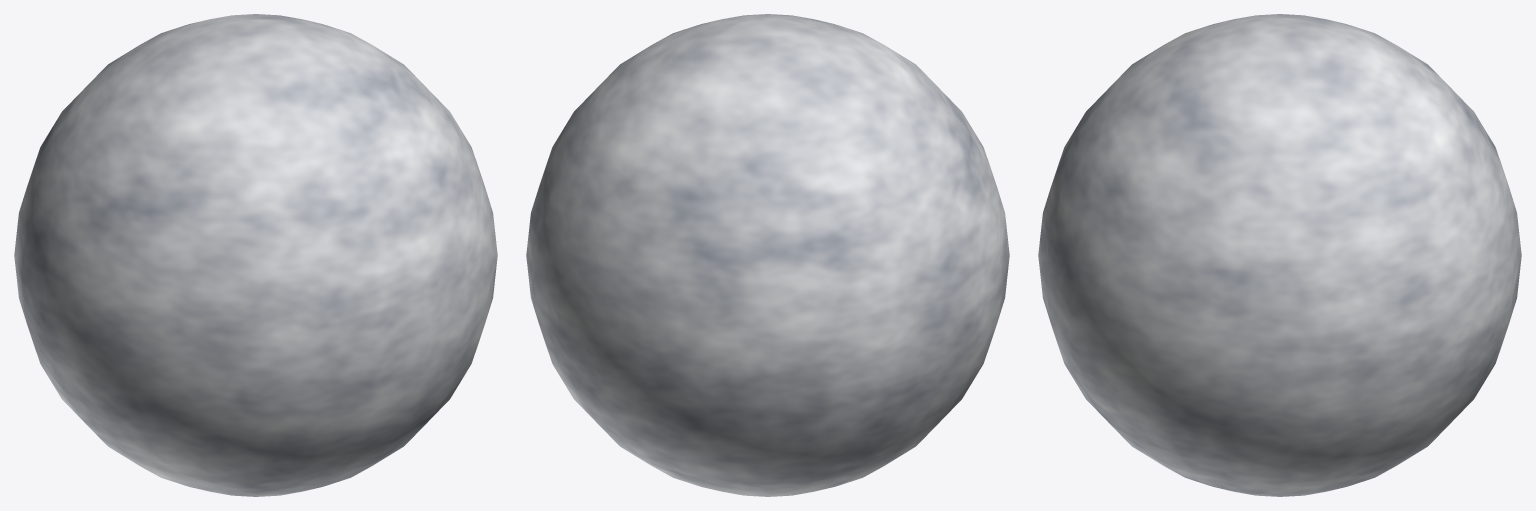
Rendered from blue_giant.glb.
The picture shows the model from 3 angles, left to right: view 1: azimuth 30°, elevation 25°; view 2: azimuth 150°, elevation 25°; view 3: azimuth 270°, elevation 25°; orthographic projection.
Parts seen in each view (by area): view 1: blue_giant_textured_mesh; view 2: blue_giant_textured_mesh; view 3: blue_giant_textured_mesh.
Part boxes in pixels (x1=…): blue_giant_textured_mesh: x1=14, y1=14, x2=497, y2=496; blue_giant_textured_mesh: x1=526, y1=14, x2=1009, y2=496; blue_giant_textured_mesh: x1=1038, y1=14, x2=1521, y2=496.
Bounding box in the file's own units: 2.64 × 2.64 × 2.64.
1 material, 1 textured.
